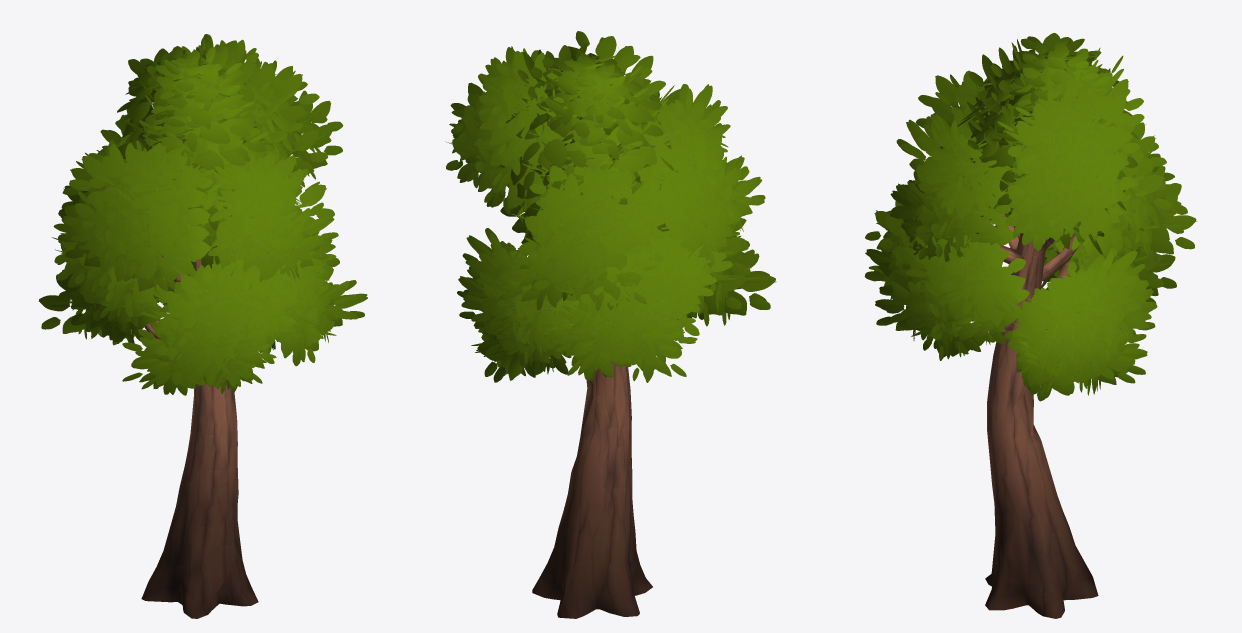
The model's file is tree-round-1.glb.
3 views of the same model, side by side, from view 1: azimuth 30°, elevation 25°; view 2: azimuth 150°, elevation 25°; view 3: azimuth 270°, elevation 25° (orthographic). The views are drawn at different scales.
Parts seen in each view (by area): view 1: CommonTree_1; view 2: CommonTree_1; view 3: CommonTree_1.
Boxes of the visible parts, x1=… form: CommonTree_1: x1=38, y1=34, x2=367, y2=618; CommonTree_1: x1=445, y1=31, x2=776, y2=618; CommonTree_1: x1=864, y1=33, x2=1197, y2=618.
Bounding box in the file's own units: 4.31 × 7.26 × 4.58.
2 materials, 2 textured.
